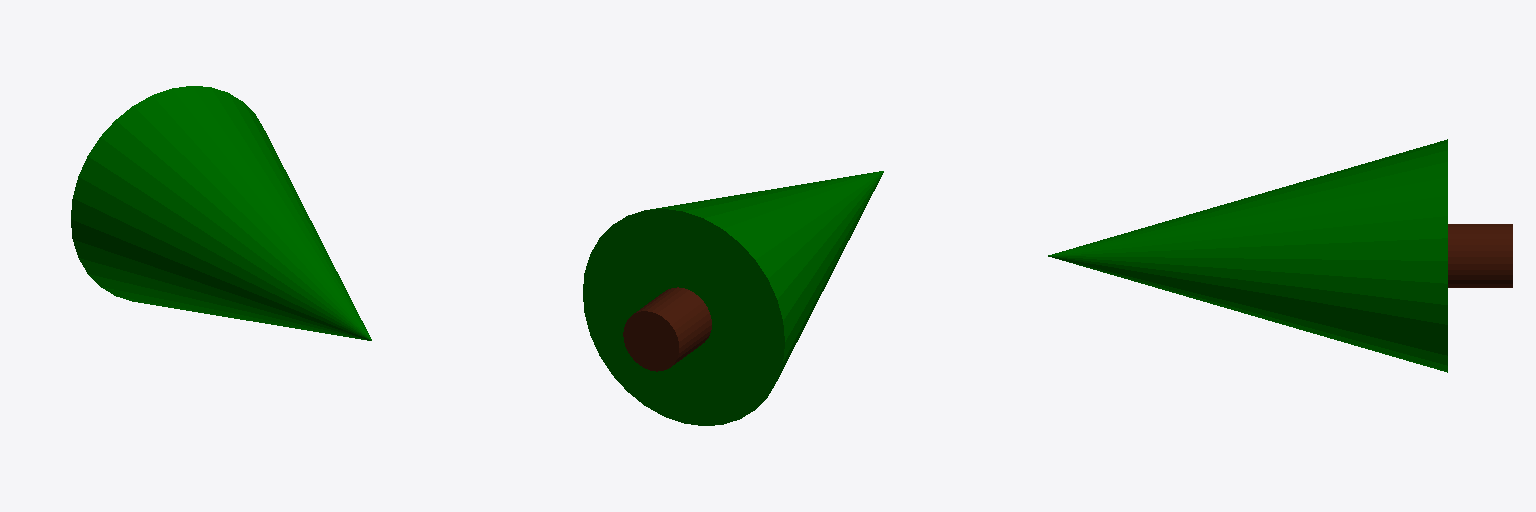
File: tree.obj
3 renders of one model, left to right at view 1: azimuth 30°, elevation 25°; view 2: azimuth 150°, elevation 25°; view 3: azimuth 270°, elevation 25°, orthographic.
Parts seen in each view (by area): view 1: Cylinder; view 2: Cylinder; view 3: Cylinder.
Boxes of the visible parts, <box> form: Cylinder: <box>71,86,371,340</box>; Cylinder: <box>583,171,883,425</box>; Cylinder: <box>1048,139,1512,372</box>.
Bounding box in the file's own units: 116 × 116 × 232.